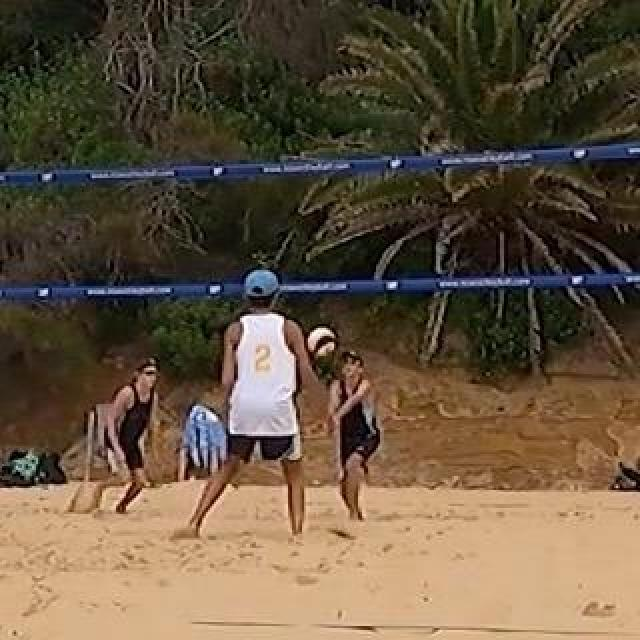volleyball: (309, 328, 339, 358)
